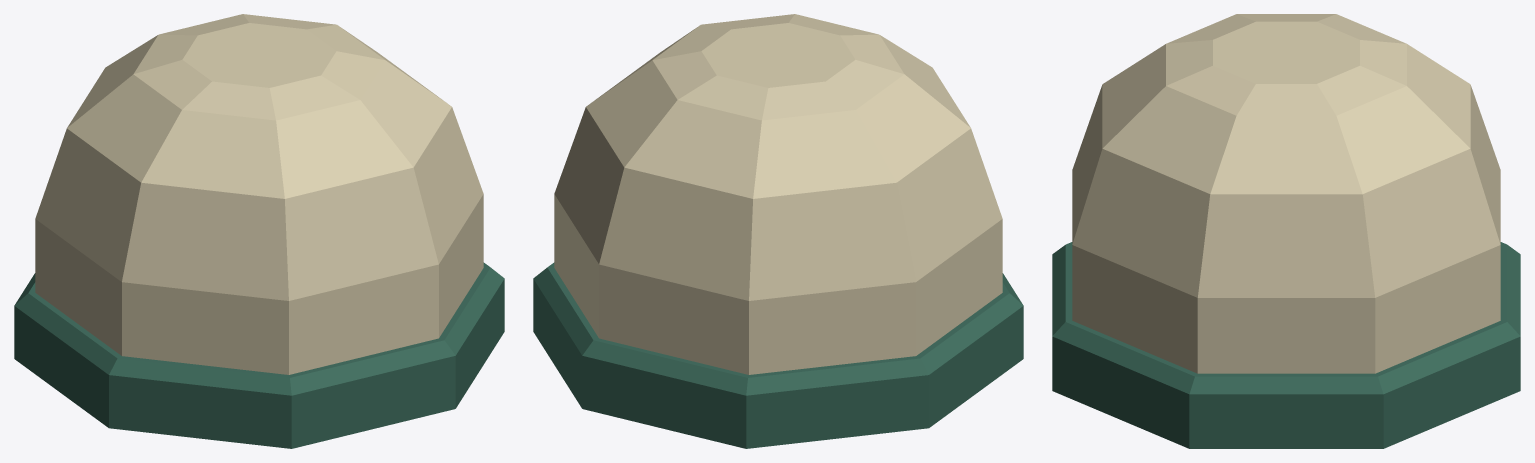
Rendered from pd3_mount.obj.
3 renders of one model, left to right at view 1: azimuth 30°, elevation 25°; view 2: azimuth 150°, elevation 25°; view 3: azimuth 270°, elevation 25°, orthographic. The views are drawn at different scales.
Parts seen in each view (by area): view 1: pd3_mount; view 2: pd3_mount; view 3: pd3_mount.
Part boxes in pixels (<box>): pd3_mount: <box>14,14,504,448</box>; pd3_mount: <box>533,14,1023,448</box>; pd3_mount: <box>1052,14,1520,448</box>.
Size of the model in its own units: 1.4 by 0.98 by 1.4.
